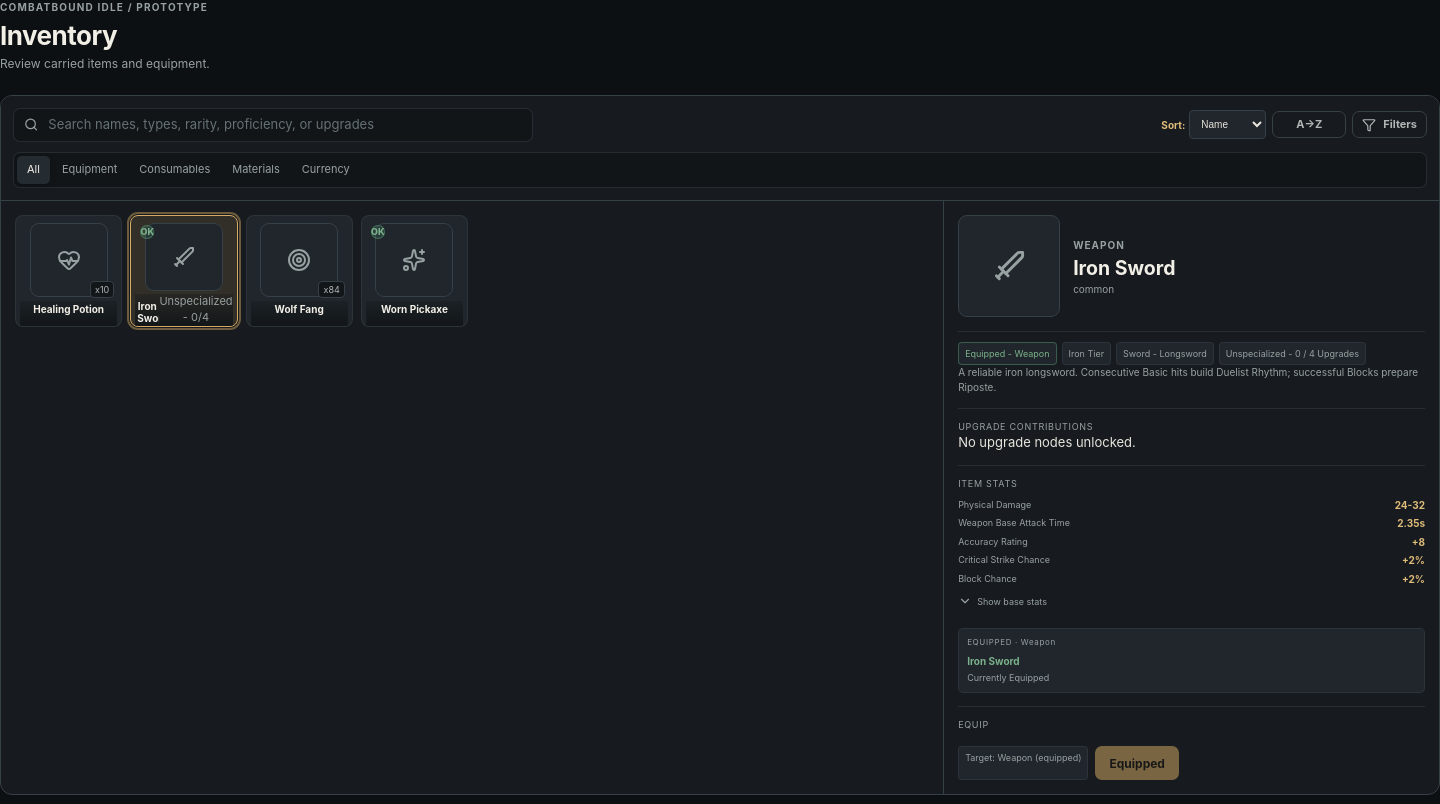
it: Phase 4 inventory and debug UI › ignores remembered equipment filters for stackable categories
Click the tab "Equipment" at (90,170), box [52, 156, 127, 184]
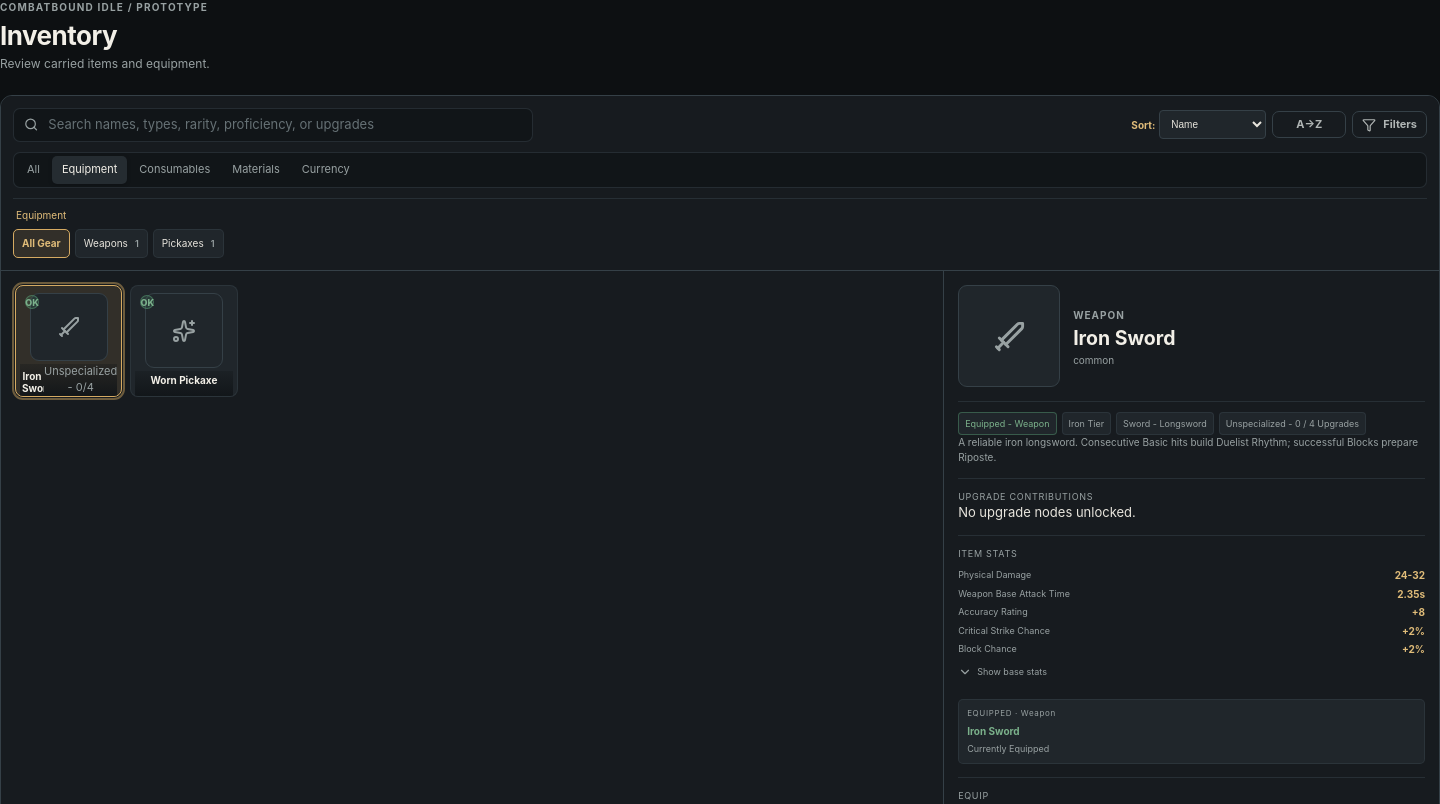
Click the button "Filters" at (1390,125), box [1352, 111, 1427, 138]
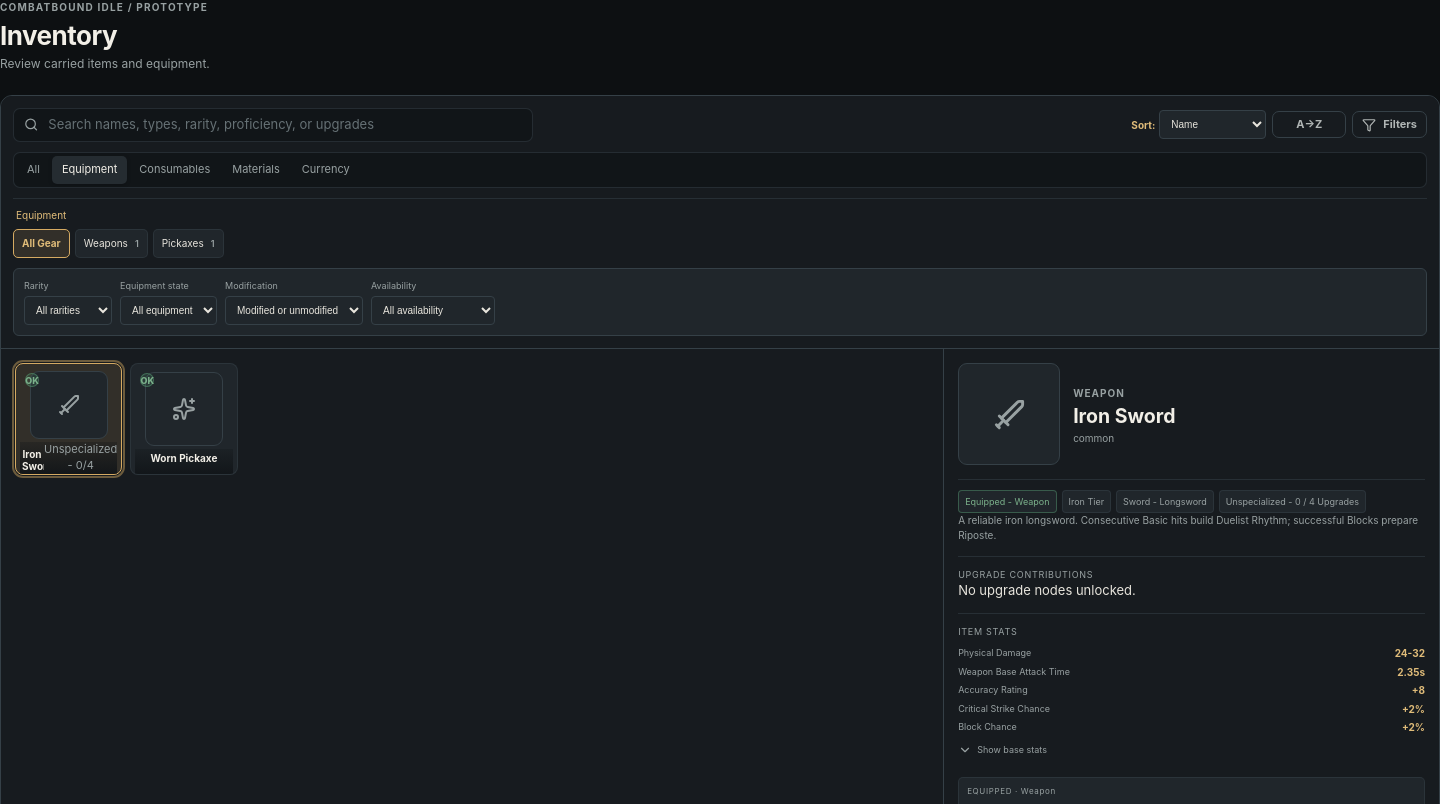
Select "Equipped" in the dropdown labelled "Equipment state" at (168,311), box [120, 296, 217, 325]
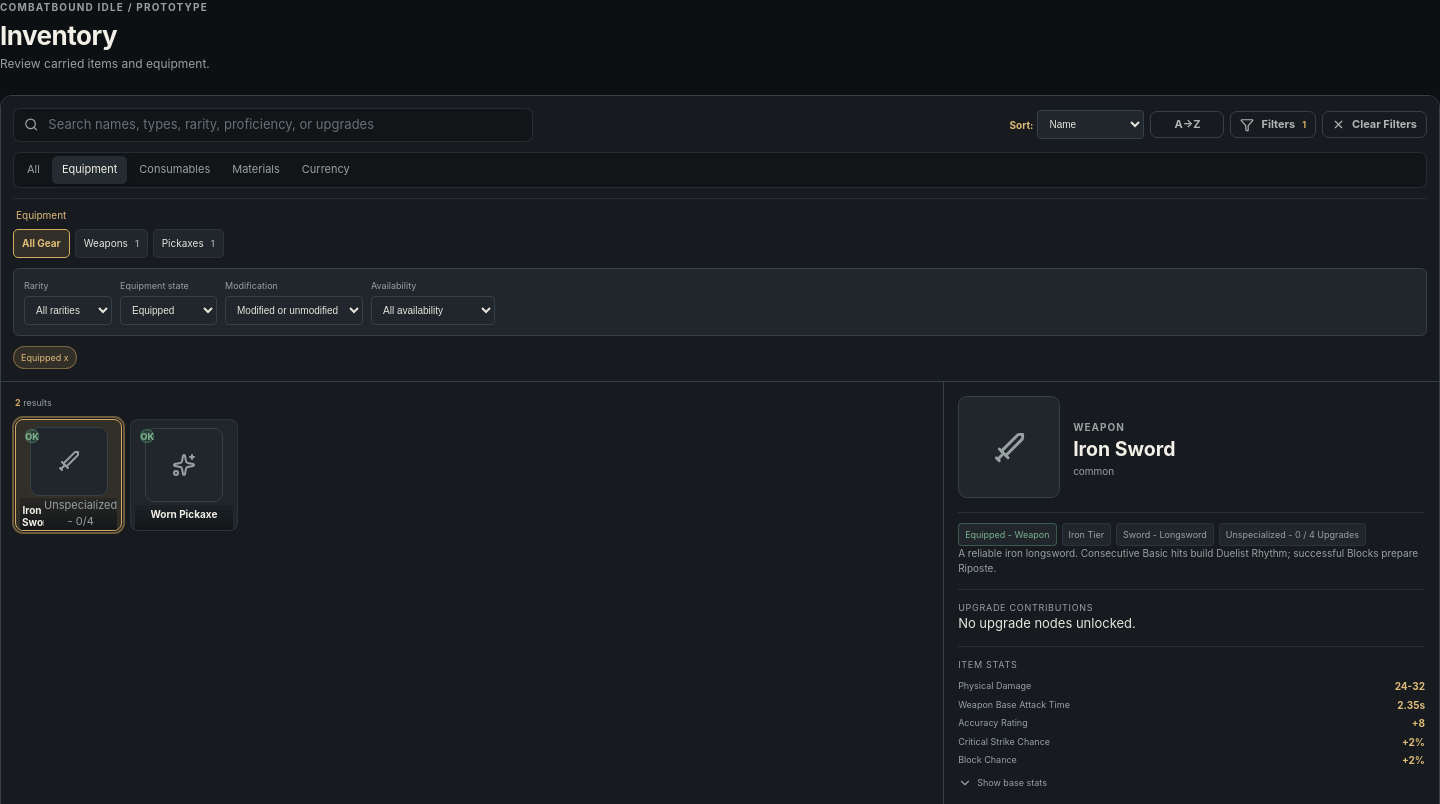
Click the tab "Materials" at (256,170), box [222, 156, 290, 184]
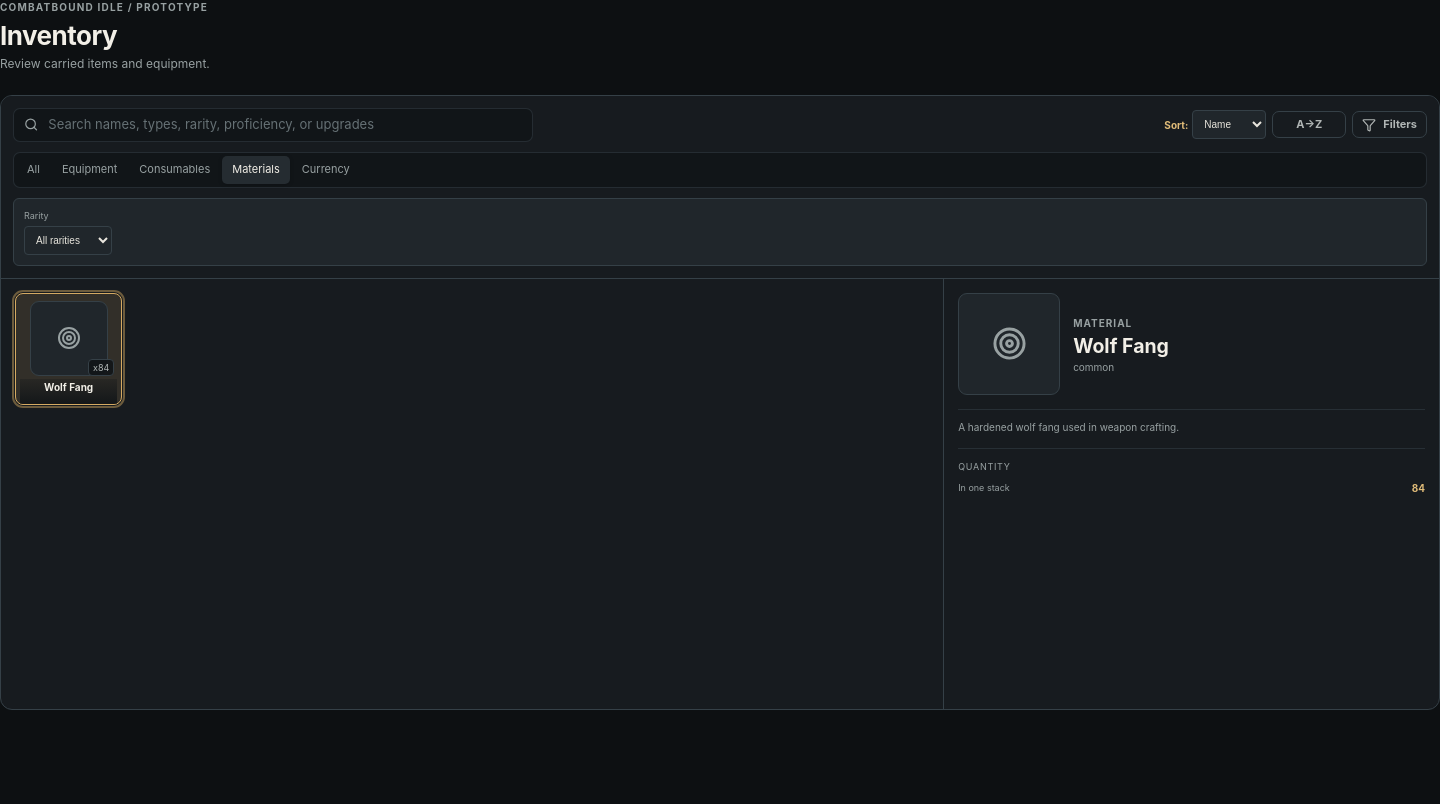
Expected: the button "Filters" is shown, [1352, 111, 1427, 138]
Expected: the button "x84 Wolf Fang" is shown, [15, 293, 122, 405]
Click the tab "Equipment" at (90,170), box [52, 156, 127, 184]
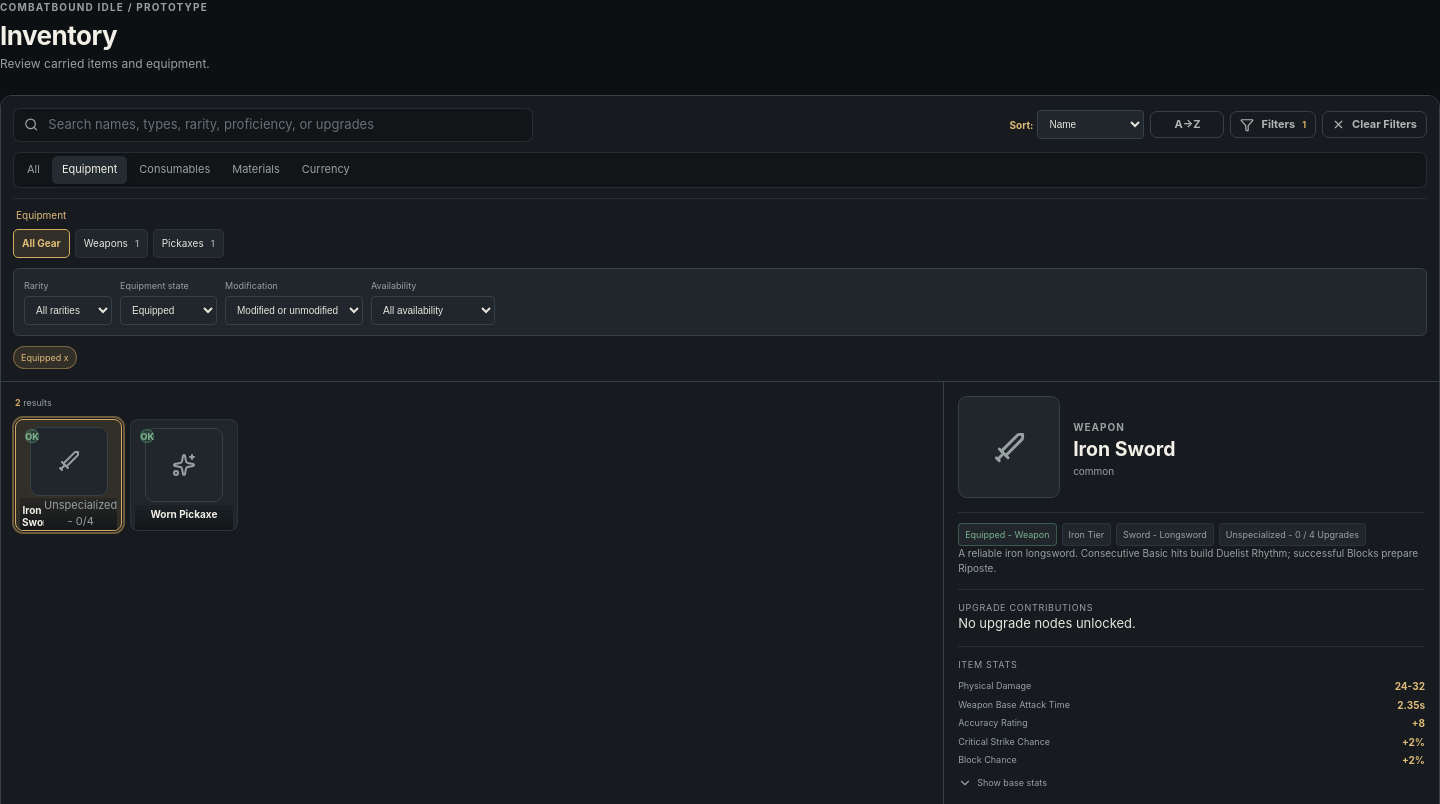
Expected: the dropdown labelled "Equipment state" shows "Equipped", [120, 296, 217, 325]
